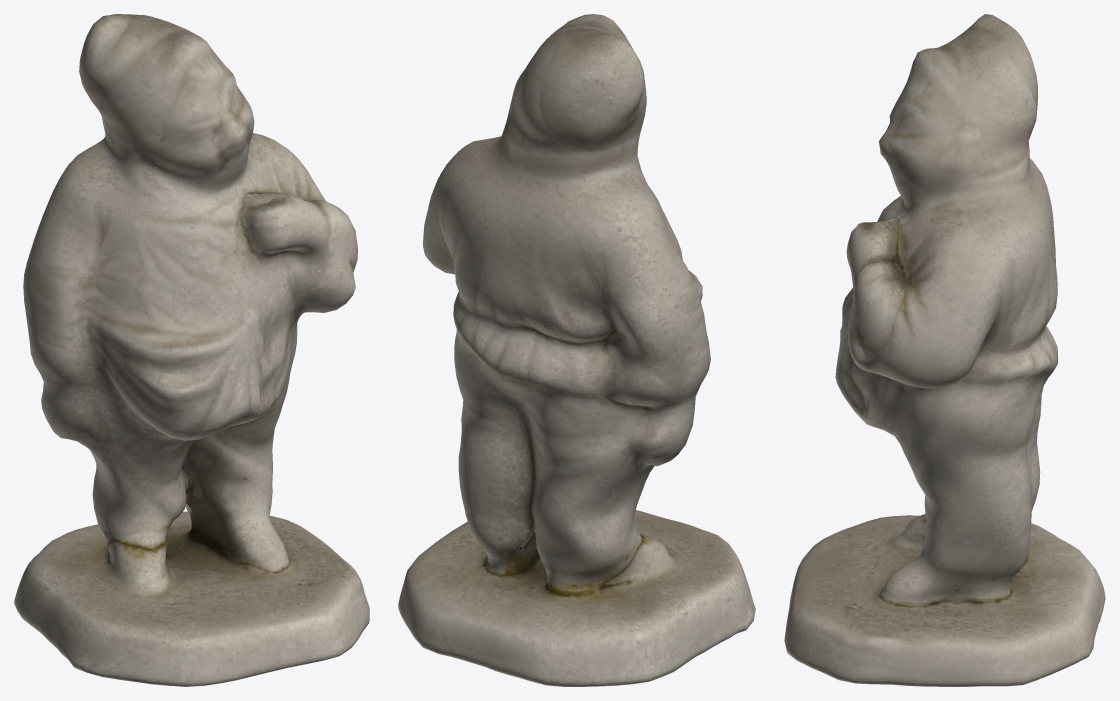
The model's file is figurine_2e5e0055.glb.
3 renders of one model, left to right at view 1: azimuth 30°, elevation 25°; view 2: azimuth 150°, elevation 25°; view 3: azimuth 270°, elevation 25°, orthographic. The views are drawn at different scales.
Visible parts, largest first — view 1: gnome_low; view 2: gnome_low; view 3: gnome_low.
Boxes of the visible parts, bbox=[...] form: gnome_low: bbox=[14, 14, 369, 686]; gnome_low: bbox=[398, 14, 755, 686]; gnome_low: bbox=[784, 14, 1105, 686].
Bounding box in the file's own units: 2.79 × 5.54 × 2.78.
Materials: 1 (1 with a texture image).
